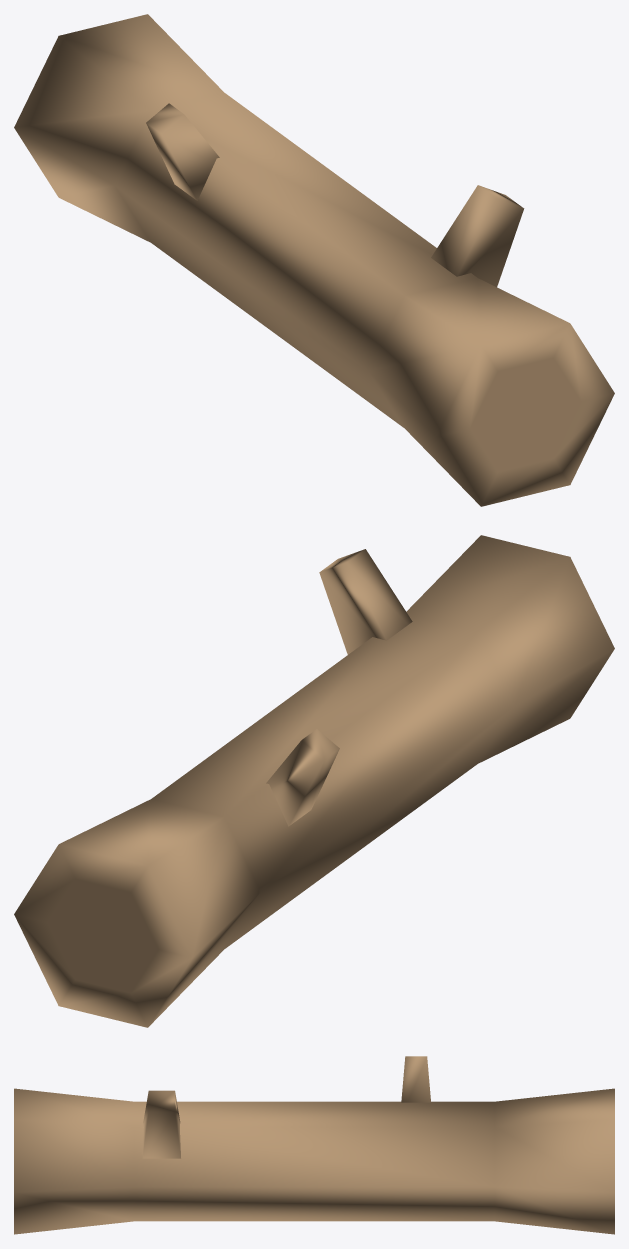
The model's file is kenney_survival-kit__tree-log.fbx.
The picture shows the model from 3 angles, top to bottom: view 1: azimuth 30°, elevation 25°; view 2: azimuth 150°, elevation 25°; view 3: azimuth 270°, elevation 25°; orthographic projection. The views are drawn at different scales.
Visible parts, largest first — view 1: kenney_survival-kit__tree-log__meadow_wood; view 2: kenney_survival-kit__tree-log__meadow_wood; view 3: kenney_survival-kit__tree-log__meadow_wood.
Boxes of the visible parts, bbox=[...] form: kenney_survival-kit__tree-log__meadow_wood: bbox=[14, 14, 614, 506]; kenney_survival-kit__tree-log__meadow_wood: bbox=[14, 535, 614, 1027]; kenney_survival-kit__tree-log__meadow_wood: bbox=[14, 1056, 614, 1234].
Bounding box in the file's own units: 0.891 × 0.9898 × 3.57.
